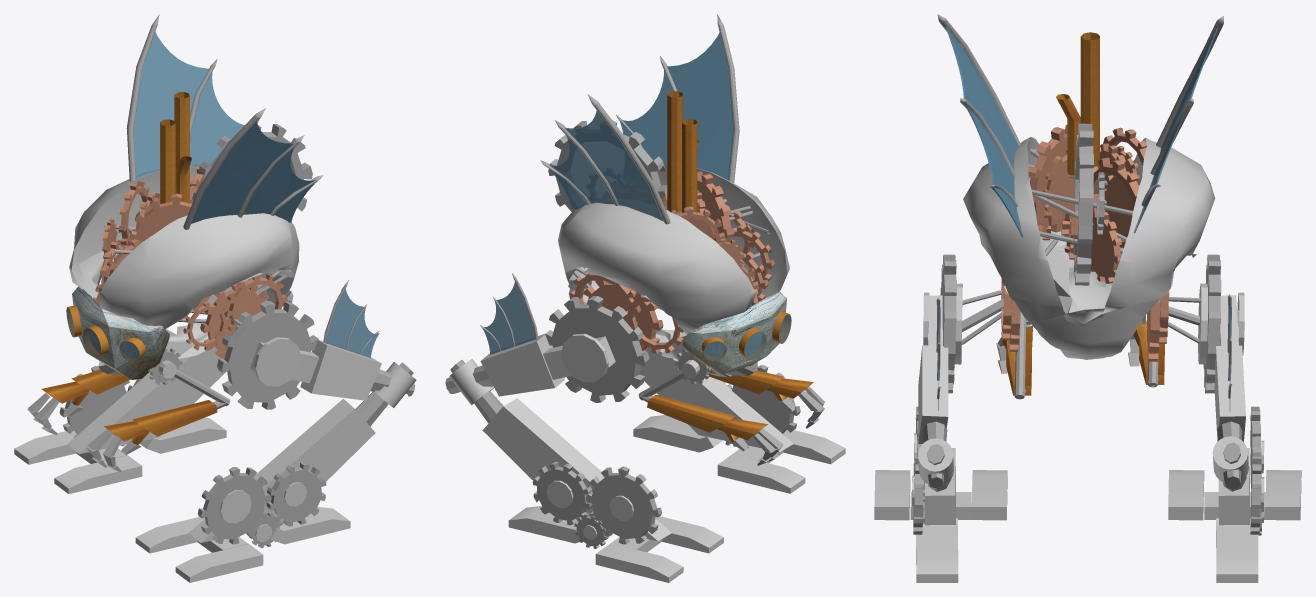
File: modelTest (1).fbx
3 renders of one model, left to right at view 1: azimuth 30°, elevation 25°; view 2: azimuth 150°, elevation 25°; view 3: azimuth 270°, elevation 25°, orthographic. The views are drawn at different scales.
Parts seen in each view (by area): view 1: polySurface3, polySurface73, polySurface71, polySurface72, polySurface43, pCube62, pCube3, pTorus5, polySurface44, pCube63, polySurface45, pCube66 (+29 smaller); view 2: polySurface3, polySurface71, polySurface72, polySurface73, polySurface30, pCube3, pTorus5, pCube62, polySurface31, pCube2, polySurface32, polySurface66 (+30 smaller); view 3: polySurface3, polySurface71, polySurface72, polySurface17, pCube7, pCube67, pCube63, pCube2, pCylinder72, polySurface54, pCube6, pCube66 (+30 smaller).
Part boxes in pixels (x1,y1,x2,y2): polySurface3: (69,166,299,358); polySurface73: (133,32,244,178); polySurface71: (191,122,317,223); polySurface72: (192,122,314,222); polySurface43: (217,301,318,409); pCube62: (189,398,375,542); pCube3: (68,346,225,454); pTorus5: (72,284,169,379); polySurface44: (197,467,271,544); pCube63: (300,340,381,400); polySurface45: (266,462,326,526); pCube66: (175,544,263,582); polySurface3: (558,165,789,359); polySurface71: (619,32,733,179); polySurface72: (620,33,732,179); polySurface73: (548,110,663,221); polySurface30: (545,296,649,402); pCube3: (482,398,671,541); pTorus5: (682,291,786,374); pCube62: (639,346,793,451); polySurface31: (586,466,661,544); pCube2: (480,334,564,396); polySurface32: (532,461,592,525); polySurface66: (482,281,535,354); polySurface3: (963,137,1215,359); polySurface71: (945,26,1023,237); polySurface72: (946,27,1022,237); polySurface17: (1073,123,1093,285); pCube7: (1216,518,1258,582); pCube67: (916,518,958,582); pCube63: (918,345,948,443); pCube2: (1214,345,1245,441); pCylinder72: (1080,32,1099,168); polySurface54: (1028,125,1067,232); pCube6: (1265,470,1301,520); pCube66: (874,470,910,520).
Bounding box in the file's own units: 3.66 × 5.2 × 3.8.
